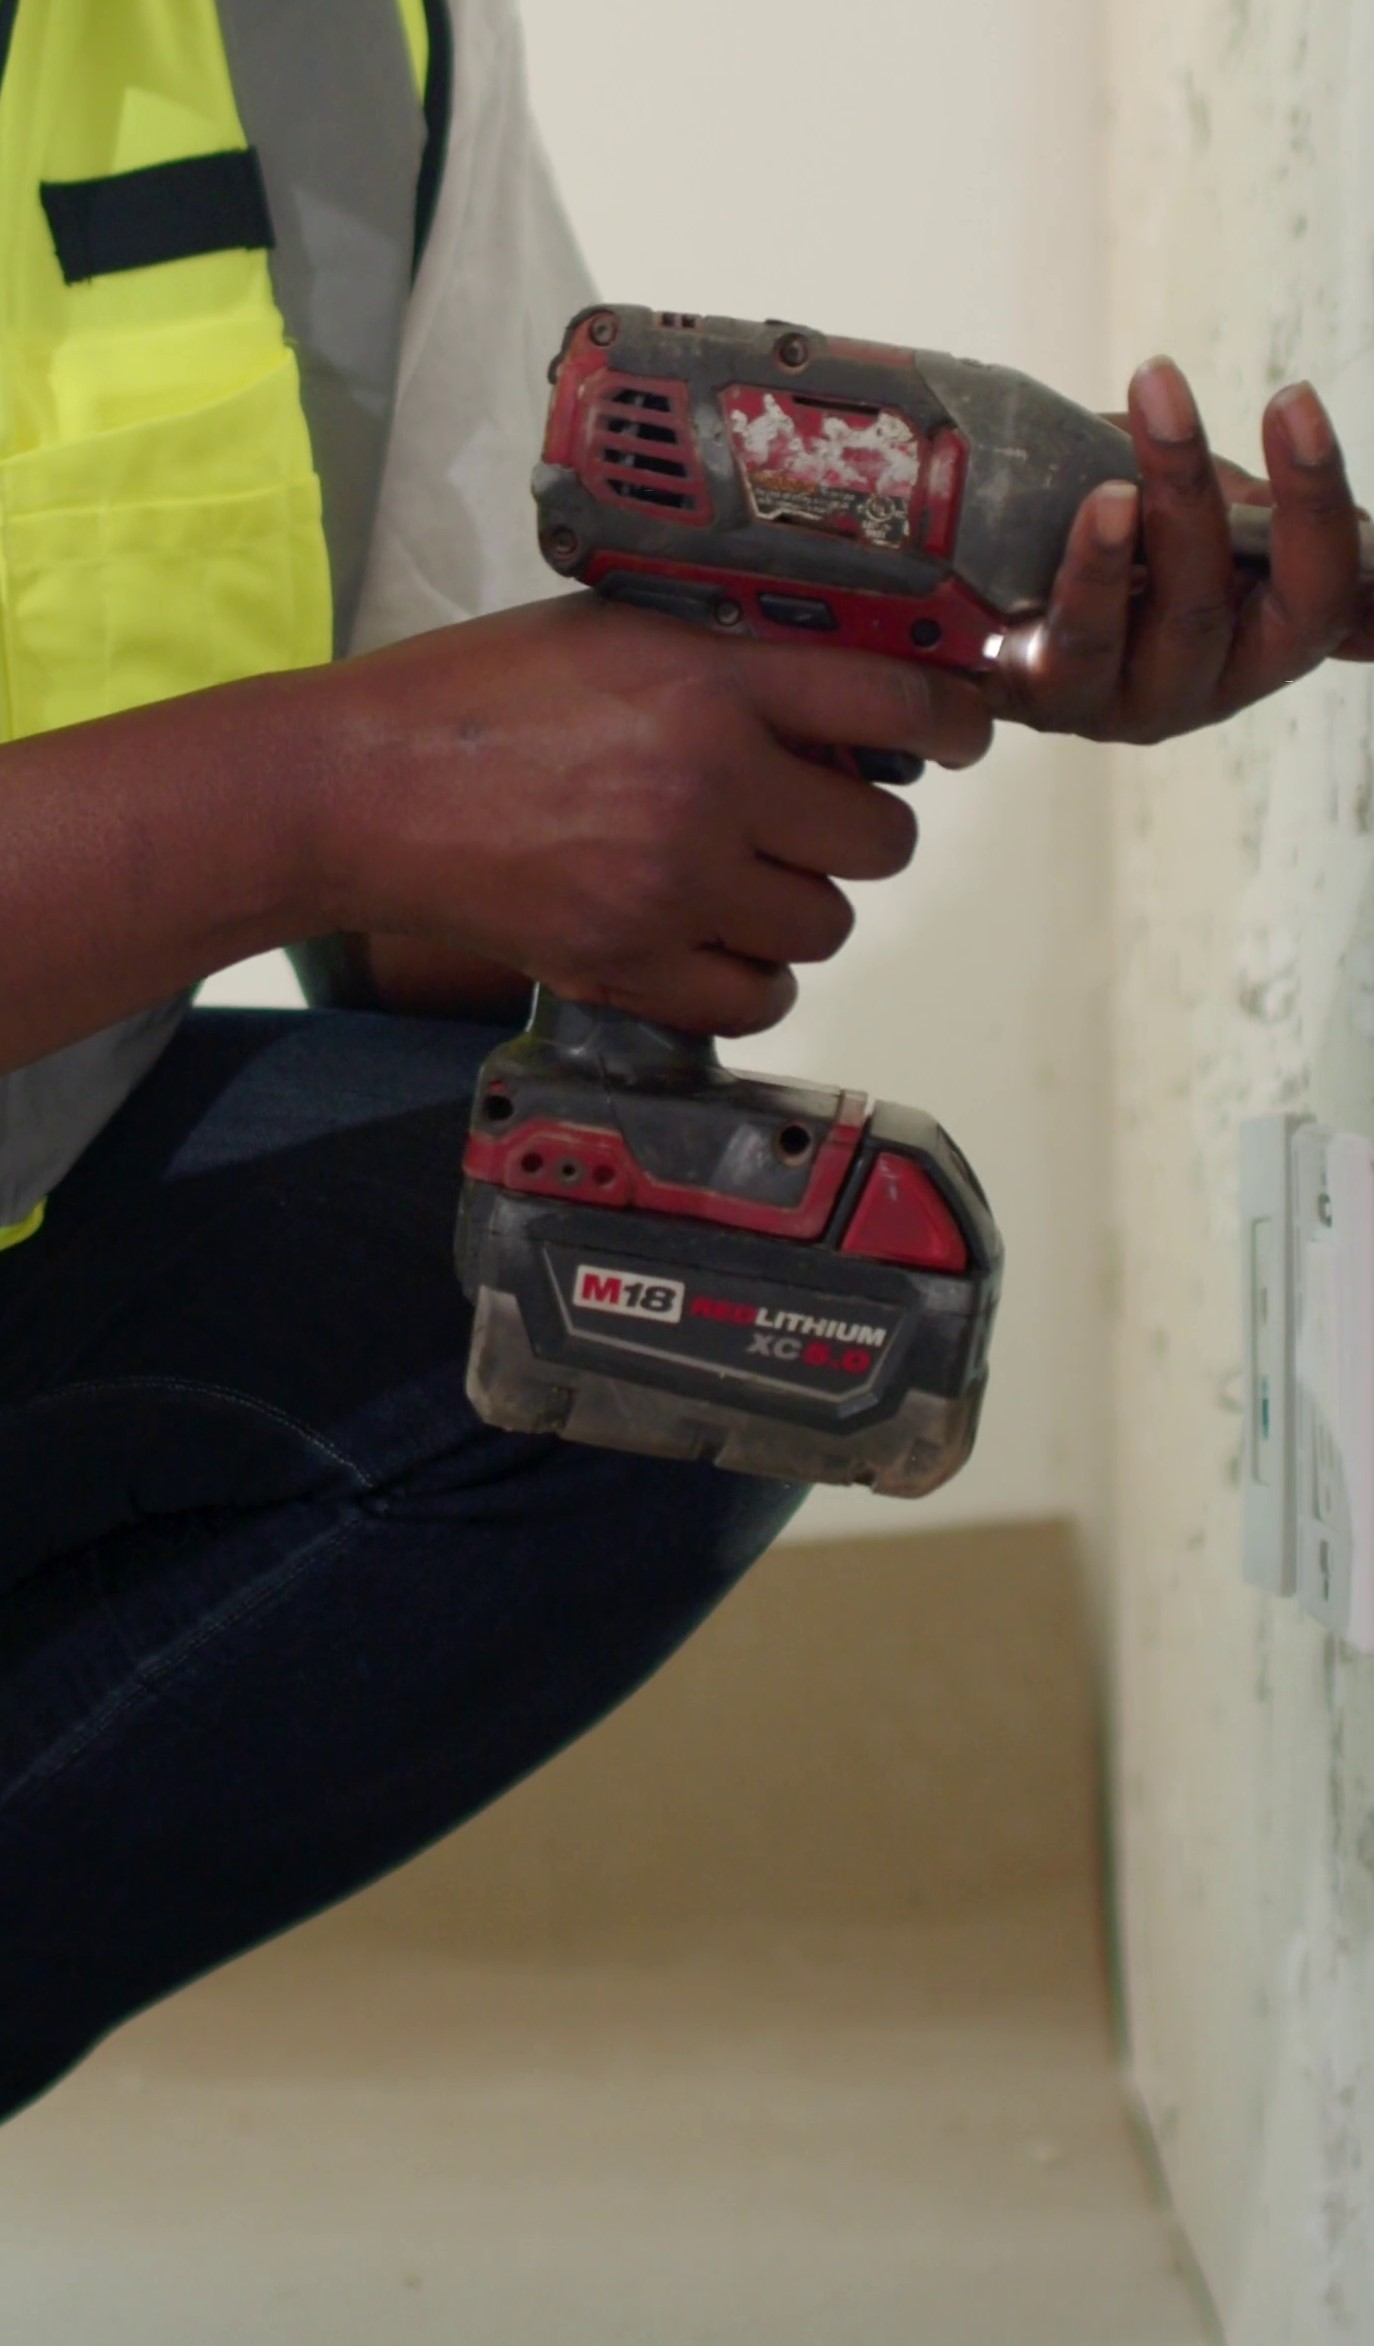driller: (433, 289, 1367, 1525)
